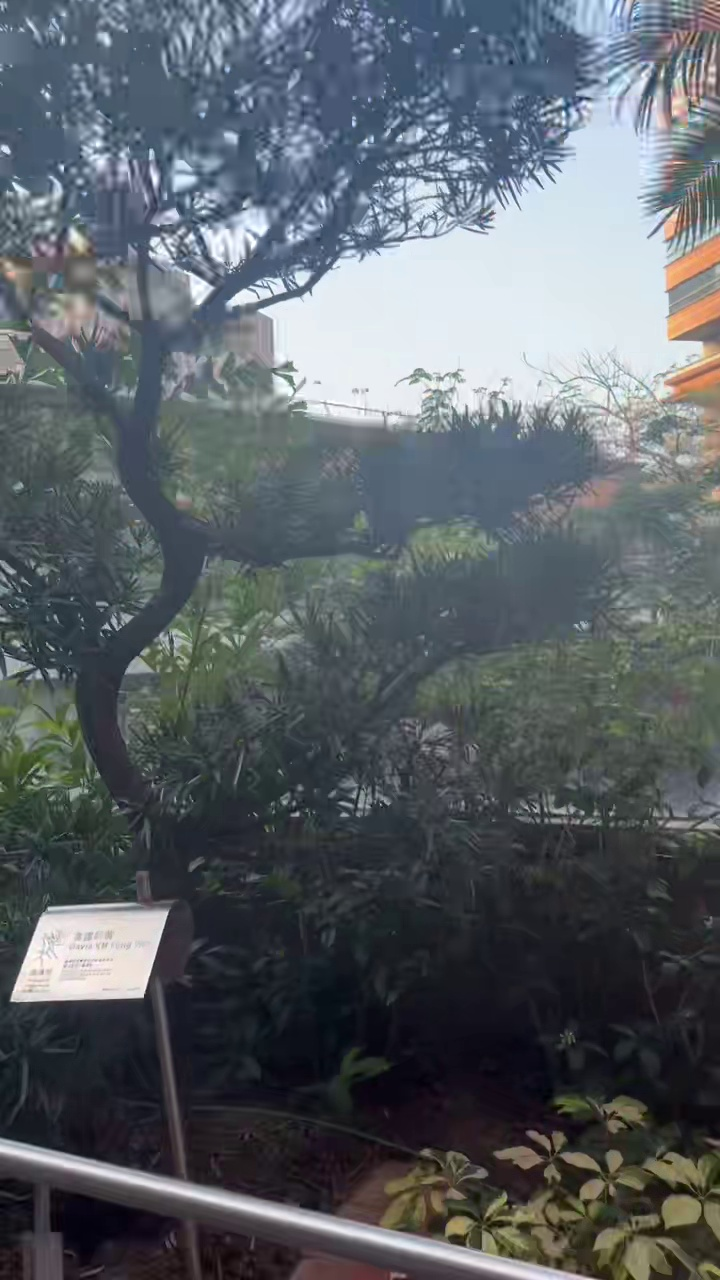Podocarpus macrophyllus: (0, 0, 595, 834)
